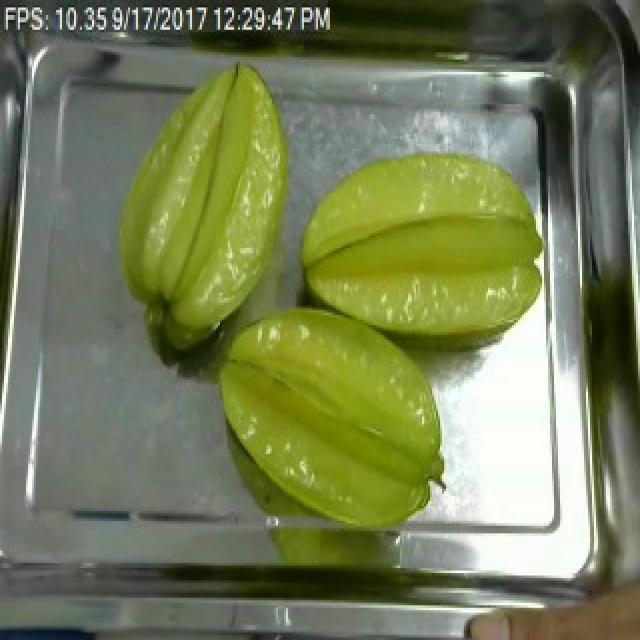fruit: (202, 293, 452, 538), (104, 50, 302, 352), (288, 144, 550, 347)
